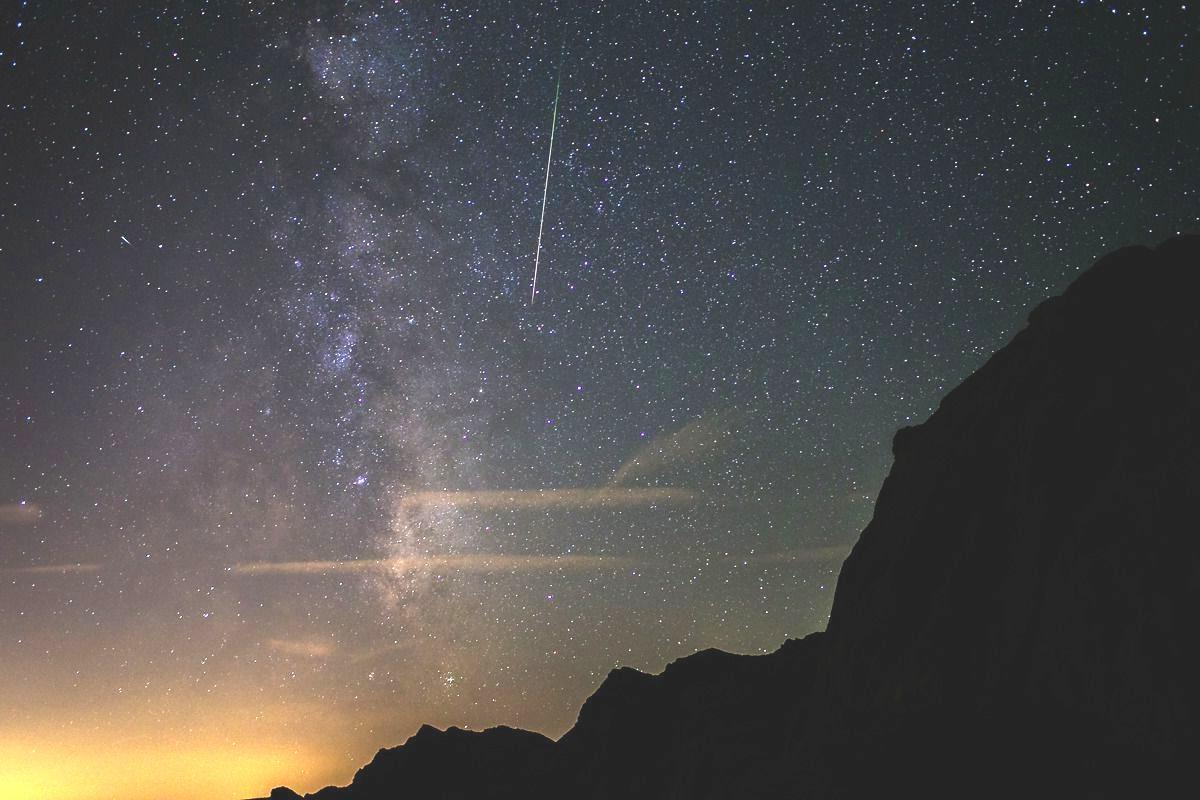meteorite: (512, 49, 578, 301), (109, 232, 142, 249)
